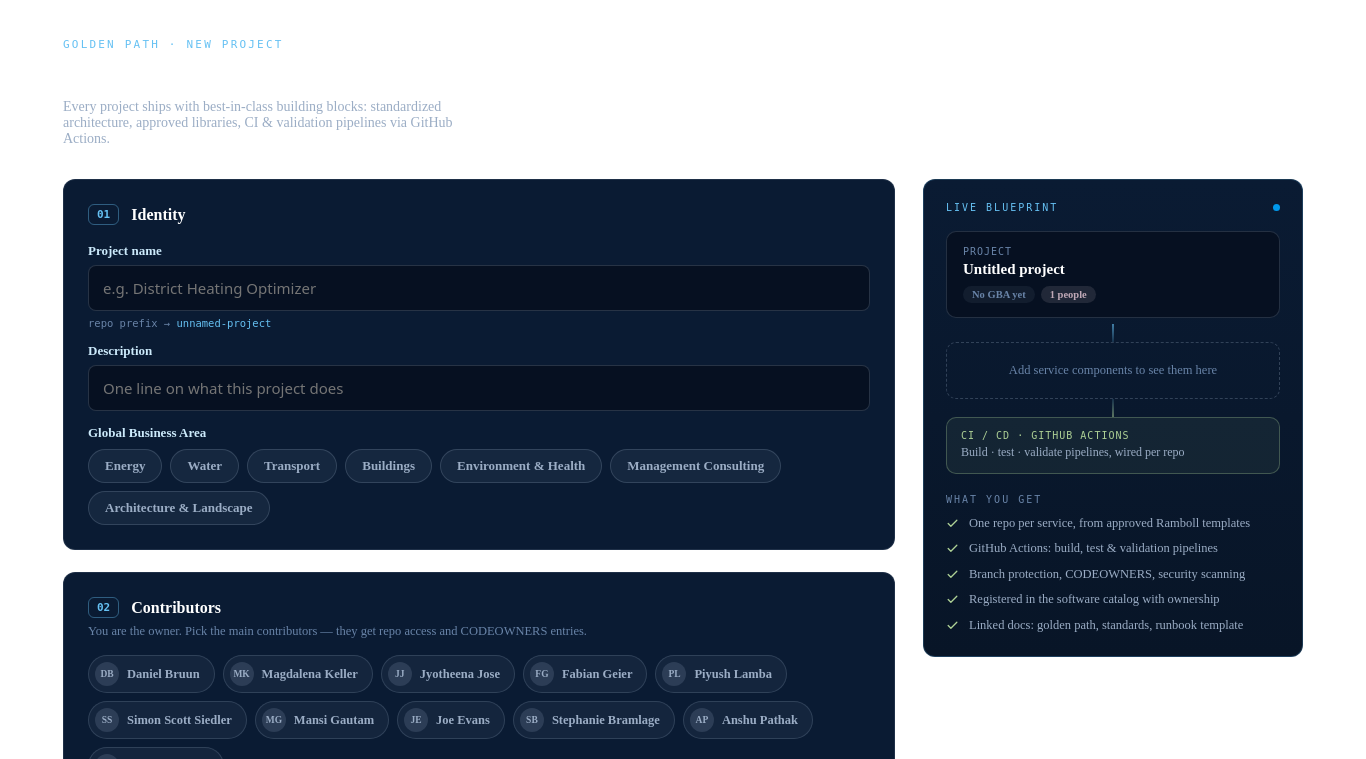
Scenario: WizardScreen › adds service rows with ordinal repo names when a type repeats
Step 1. Type "District Heating Optimizer" into the field with placeholder "e.g. District Heating Optimizer" → (479, 288), box [88,265,870,311]
(page scrolled)
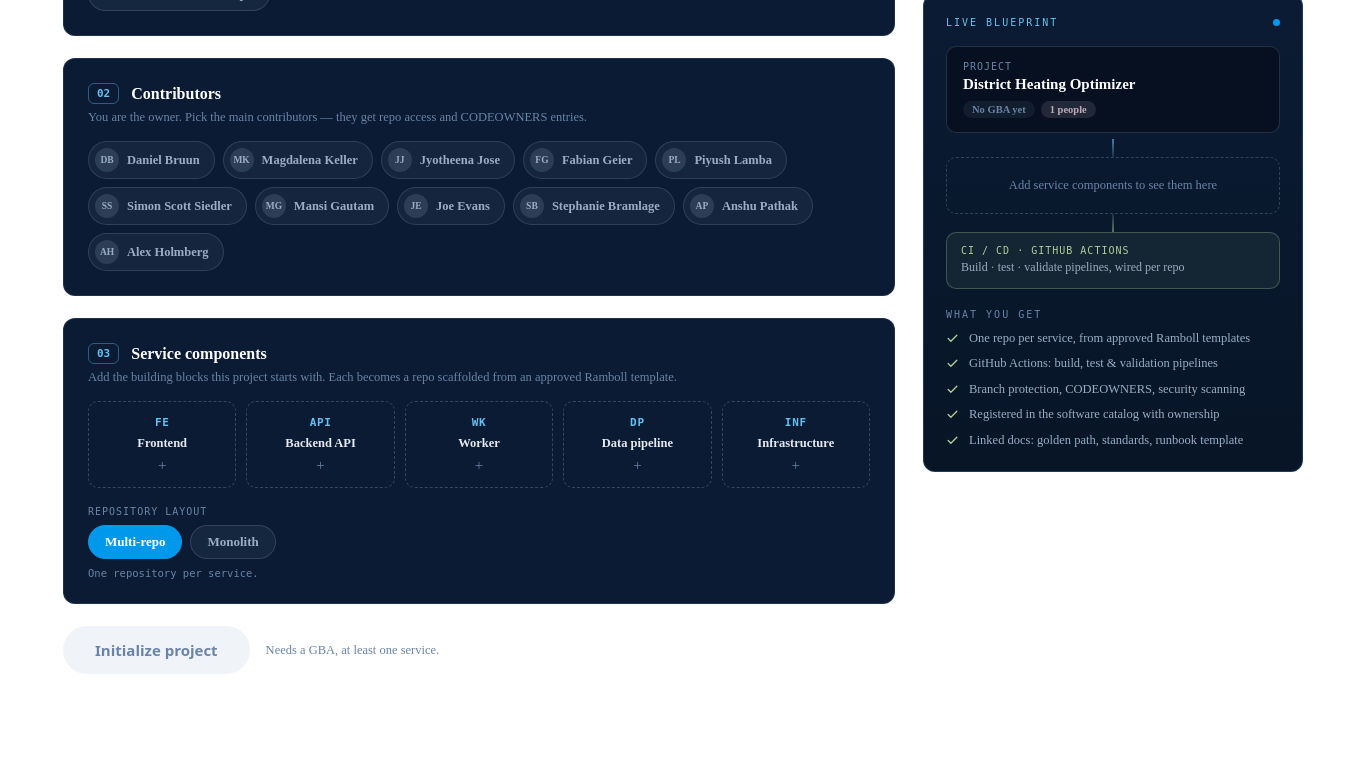
Step 2. Click the text "Backend API" → (321, 444), box [285,436,356,451]
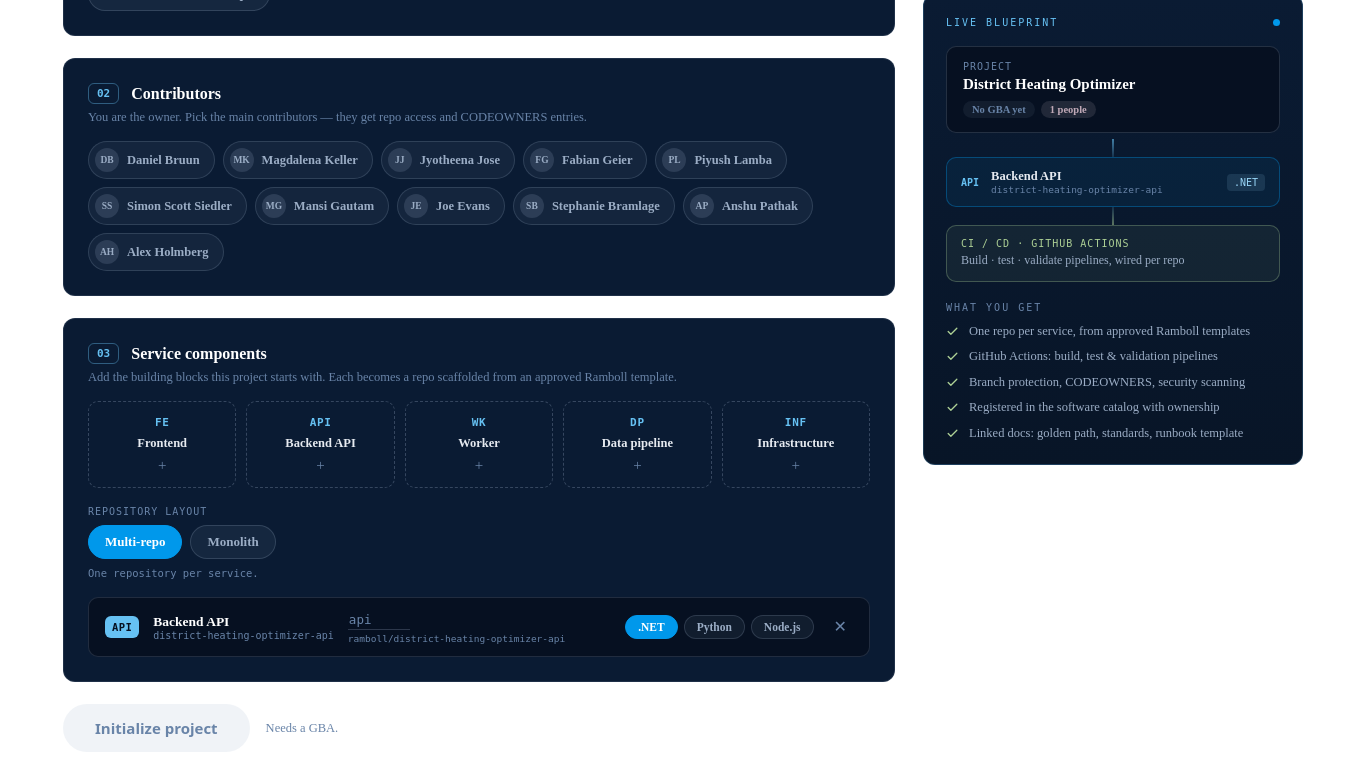
Check: the text "district-heating-optimizer-api" is shown 2 times, box [153,630,334,640]; [991,184,1163,195]
Step 3. Click the text "Backend API" next to "Frontend" → (321, 444), box [285,436,356,451]
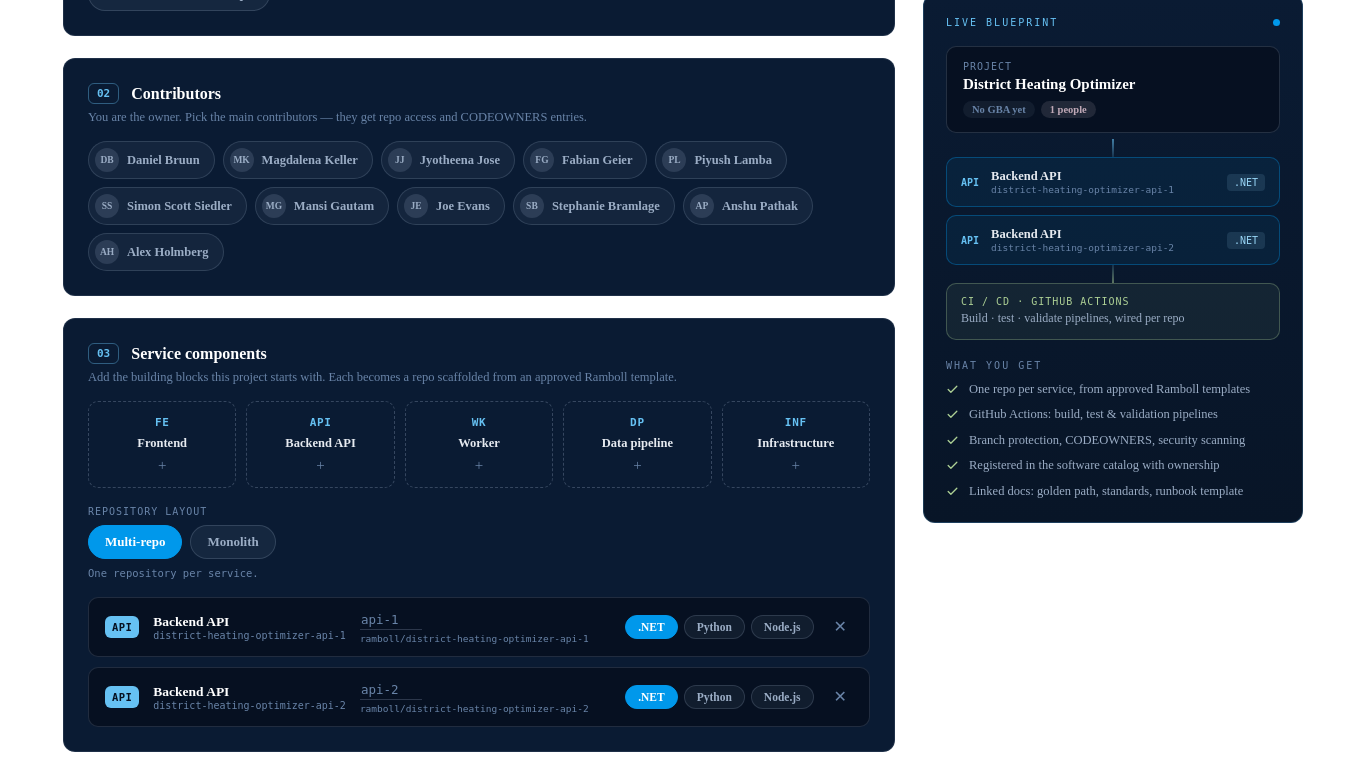
Check: the text "district-heating-optimizer-api-1" is shown 2 times, box [153,630,346,640]; [991,184,1174,195]
Check: the text "district-heating-optimizer-api-2" is shown 2 times, box [153,700,346,710]; [991,242,1174,253]
